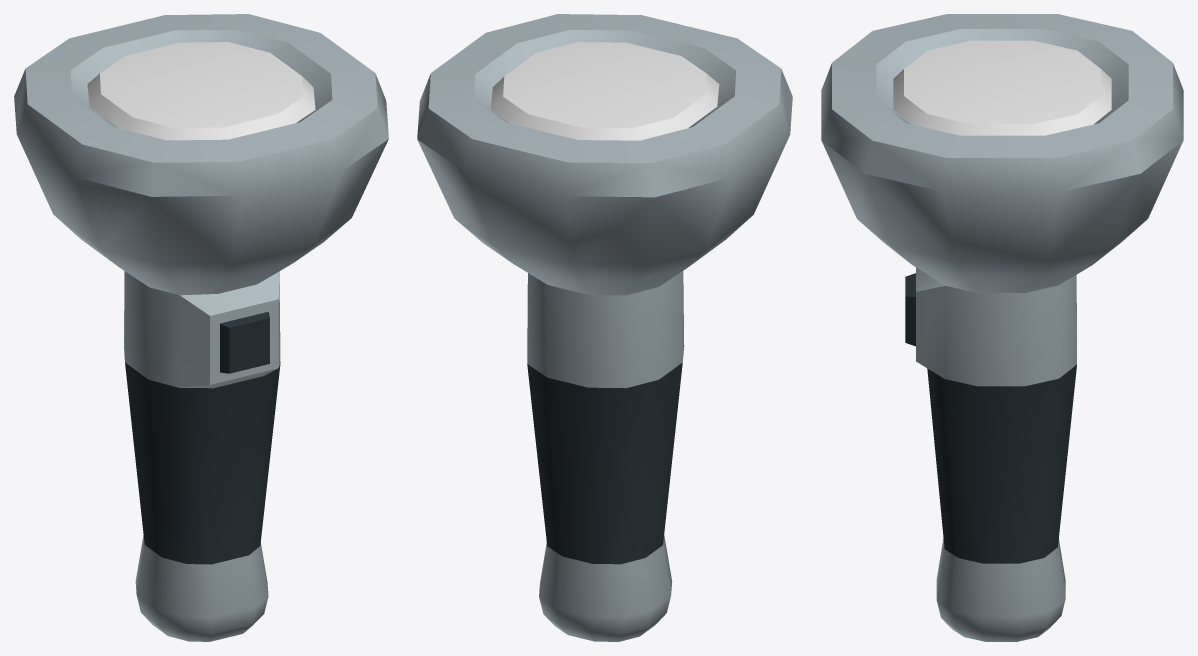
The model's file is flashlight.gltf.glb.
The picture shows the model from 3 angles, left to right: view 1: azimuth 30°, elevation 25°; view 2: azimuth 150°, elevation 25°; view 3: azimuth 270°, elevation 25°; orthographic projection.
Parts seen in each view (by area): view 1: flashlight; view 2: flashlight; view 3: flashlight.
Part boxes in pixels (x1,y1,x2,y2): flashlight: (14,14,388,641); flashlight: (417,14,792,641); flashlight: (821,14,1183,641).
Size of the model in its own units: 0.4157 by 0.6975 by 0.4157.
